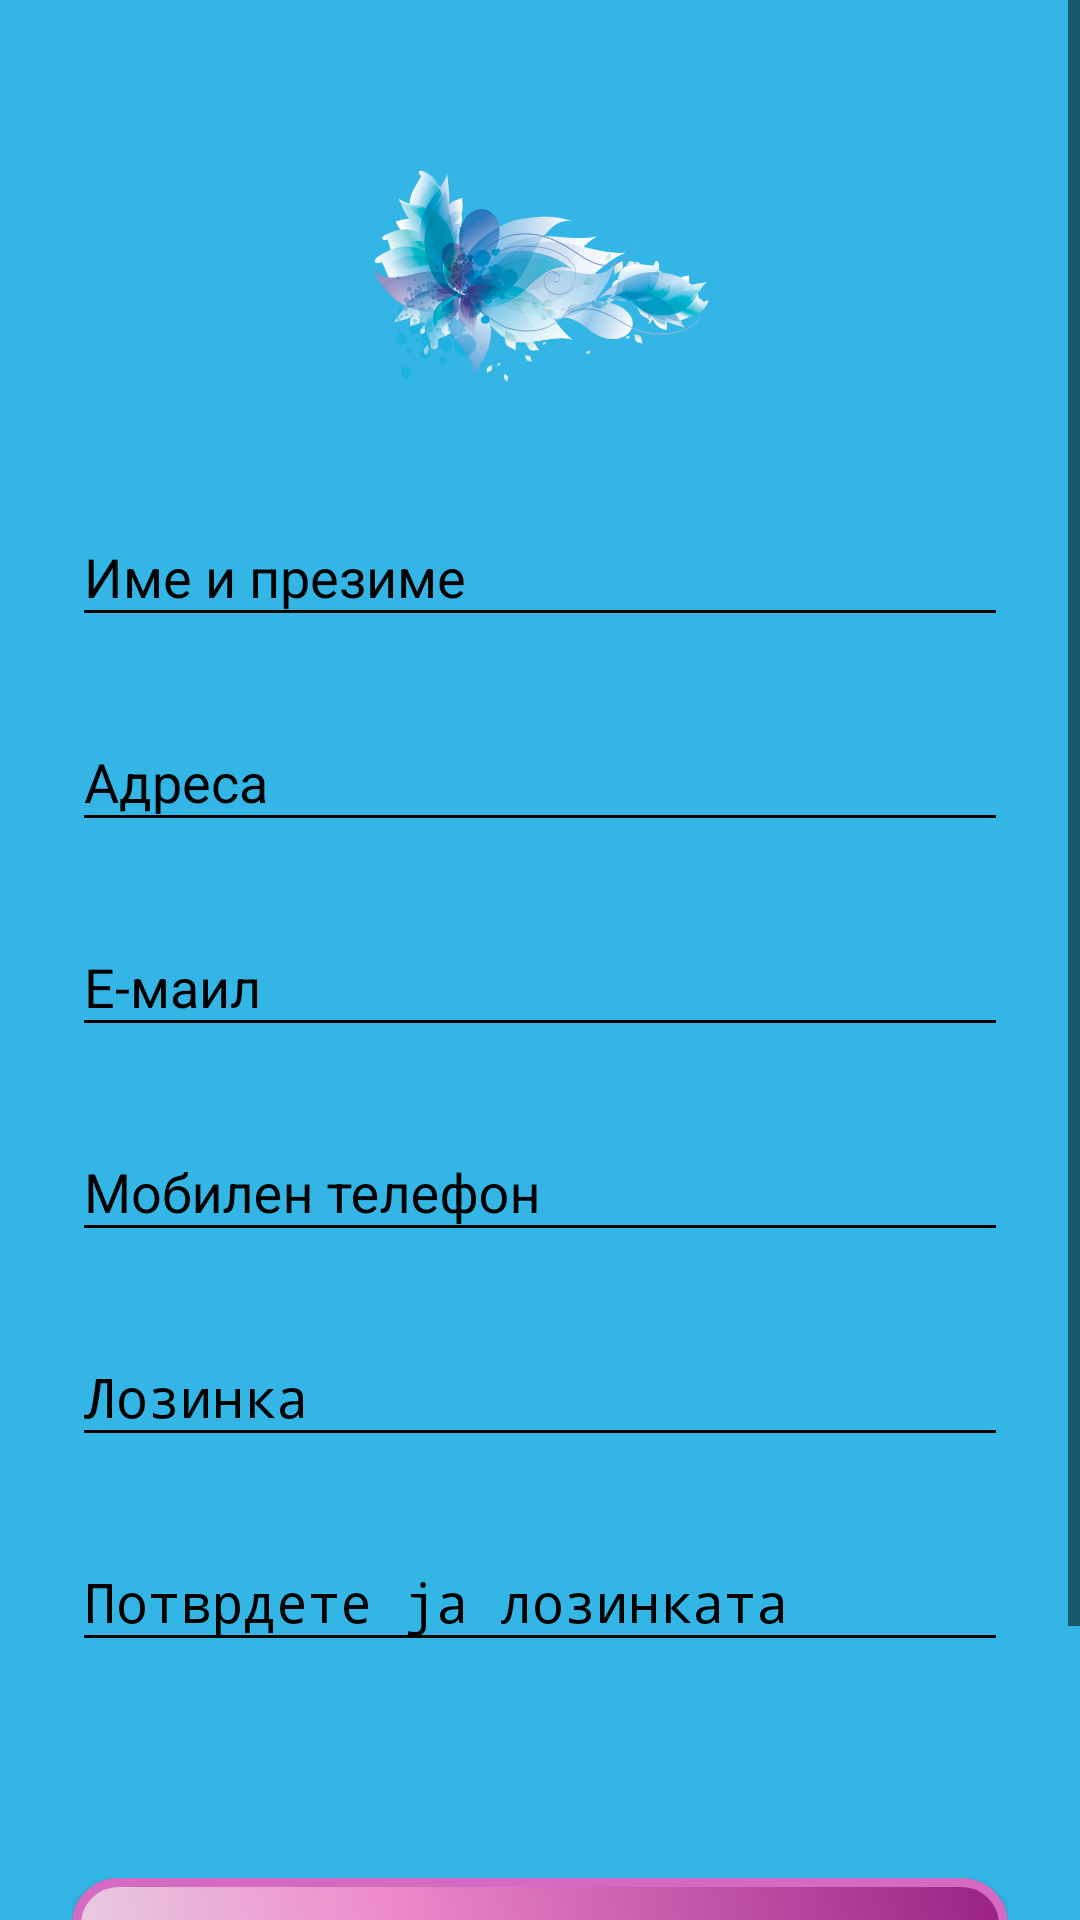

Icon bounding boxes for this 1080x1920 phone screenshot, format (x1, y1, x2, y2):
flower: (373, 170, 708, 382)
